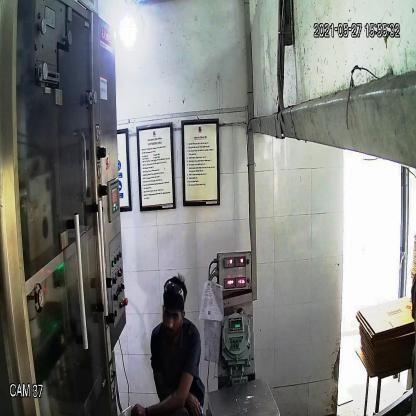no_goggles: (162, 307, 184, 326)
